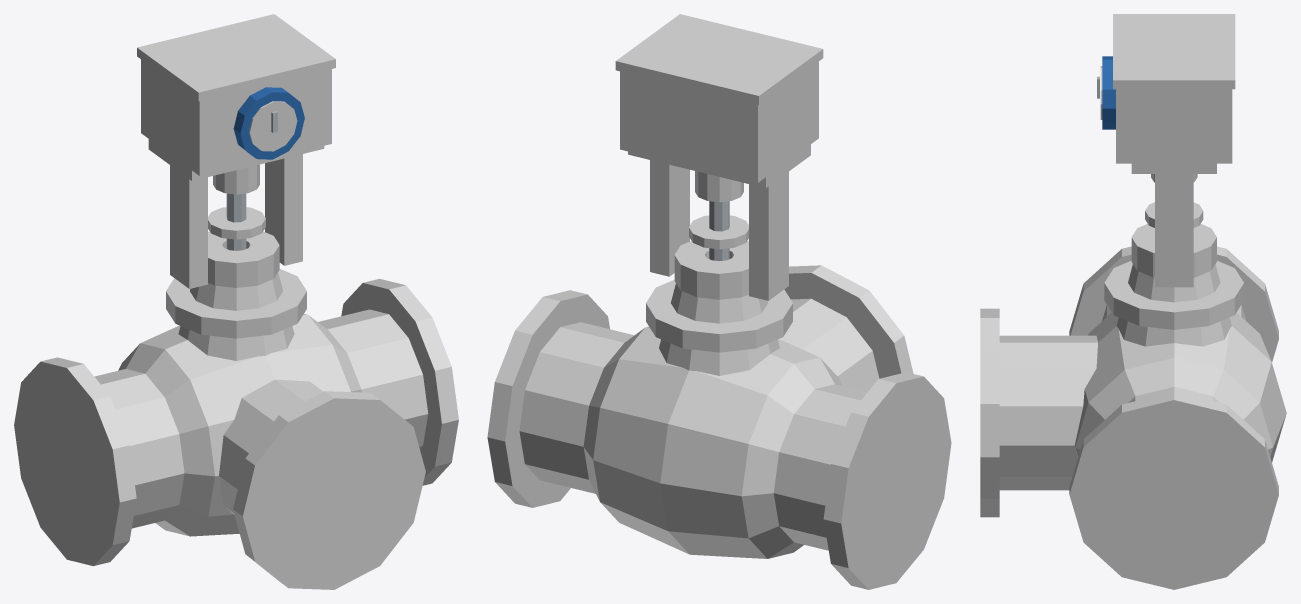
The model's file is valve-three-way.glb.
3 views of the same model, side by side, from view 1: azimuth 30°, elevation 25°; view 2: azimuth 150°, elevation 25°; view 3: azimuth 270°, elevation 25° (orthographic). The views are drawn at different scales.
Visible parts, largest first — view 1: branch.flange, in.flange, globe, actuator.case, actuator.lid, in.stub, out.flange, out.stub, bonnet.flange, branch.stub, bonnet, yoke.leg.0 (+8 smaller); view 2: globe, in.flange, actuator.case, actuator.lid, out.stub, out.flange, in.stub, branch.flange, bonnet.flange, branch.stub, bonnet, yoke.leg.0 (+6 smaller); view 3: out.flange, globe, branch.stub, actuator.lid, actuator.case, bonnet.flange, yoke.leg.1, in.flange, branch.flange, bonnet, packing, yoke.bridge (+3 smaller).
Part boxes in pixels (x1,y1,x2,y2): branch.flange: (233,391,425,589); in.flange: (14,357,136,566); globe: (118,313,361,536); actuator.case: (141,59,331,175); actuator.lid: (137,14,335,101); in.stub: (94,369,184,528); out.flange: (341,278,458,485); out.stub: (318,309,428,448); bonnet.flange: (166,269,306,338); branch.stub: (219,379,323,513); bonnet: (178,272,294,360); yoke.leg.0: (170,165,207,288); globe: (583,326,842,558); in.flange: (823,372,951,589); actuator.case: (620,61,818,182); actuator.lid: (615,14,823,105); out.stub: (519,322,633,493); out.flange: (487,290,609,507); in.stub: (773,384,867,550); branch.flange: (784,265,913,378); bonnet.flange: (646,279,792,352); branch.stub: (779,298,879,391); bonnet: (659,283,779,375); yoke.leg.0: (749,171,788,300); out.flange: (1069,392,1278,589); globe: (1074,312,1286,462); branch.stub: (999,335,1097,490); actuator.lid: (1113,14,1235,89); actuator.case: (1116,89,1232,163); bonnet.flange: (1104,260,1243,329); yoke.leg.1: (1155,174,1193,287); in.flange: (1069,246,1278,361); branch.flange: (980,308,999,517); bonnet: (1116,264,1231,346); packing: (1131,223,1216,277); yoke.bridge: (1131,163,1216,173).
Size of the model in its own units: 1 by 1.33 by 0.79.
